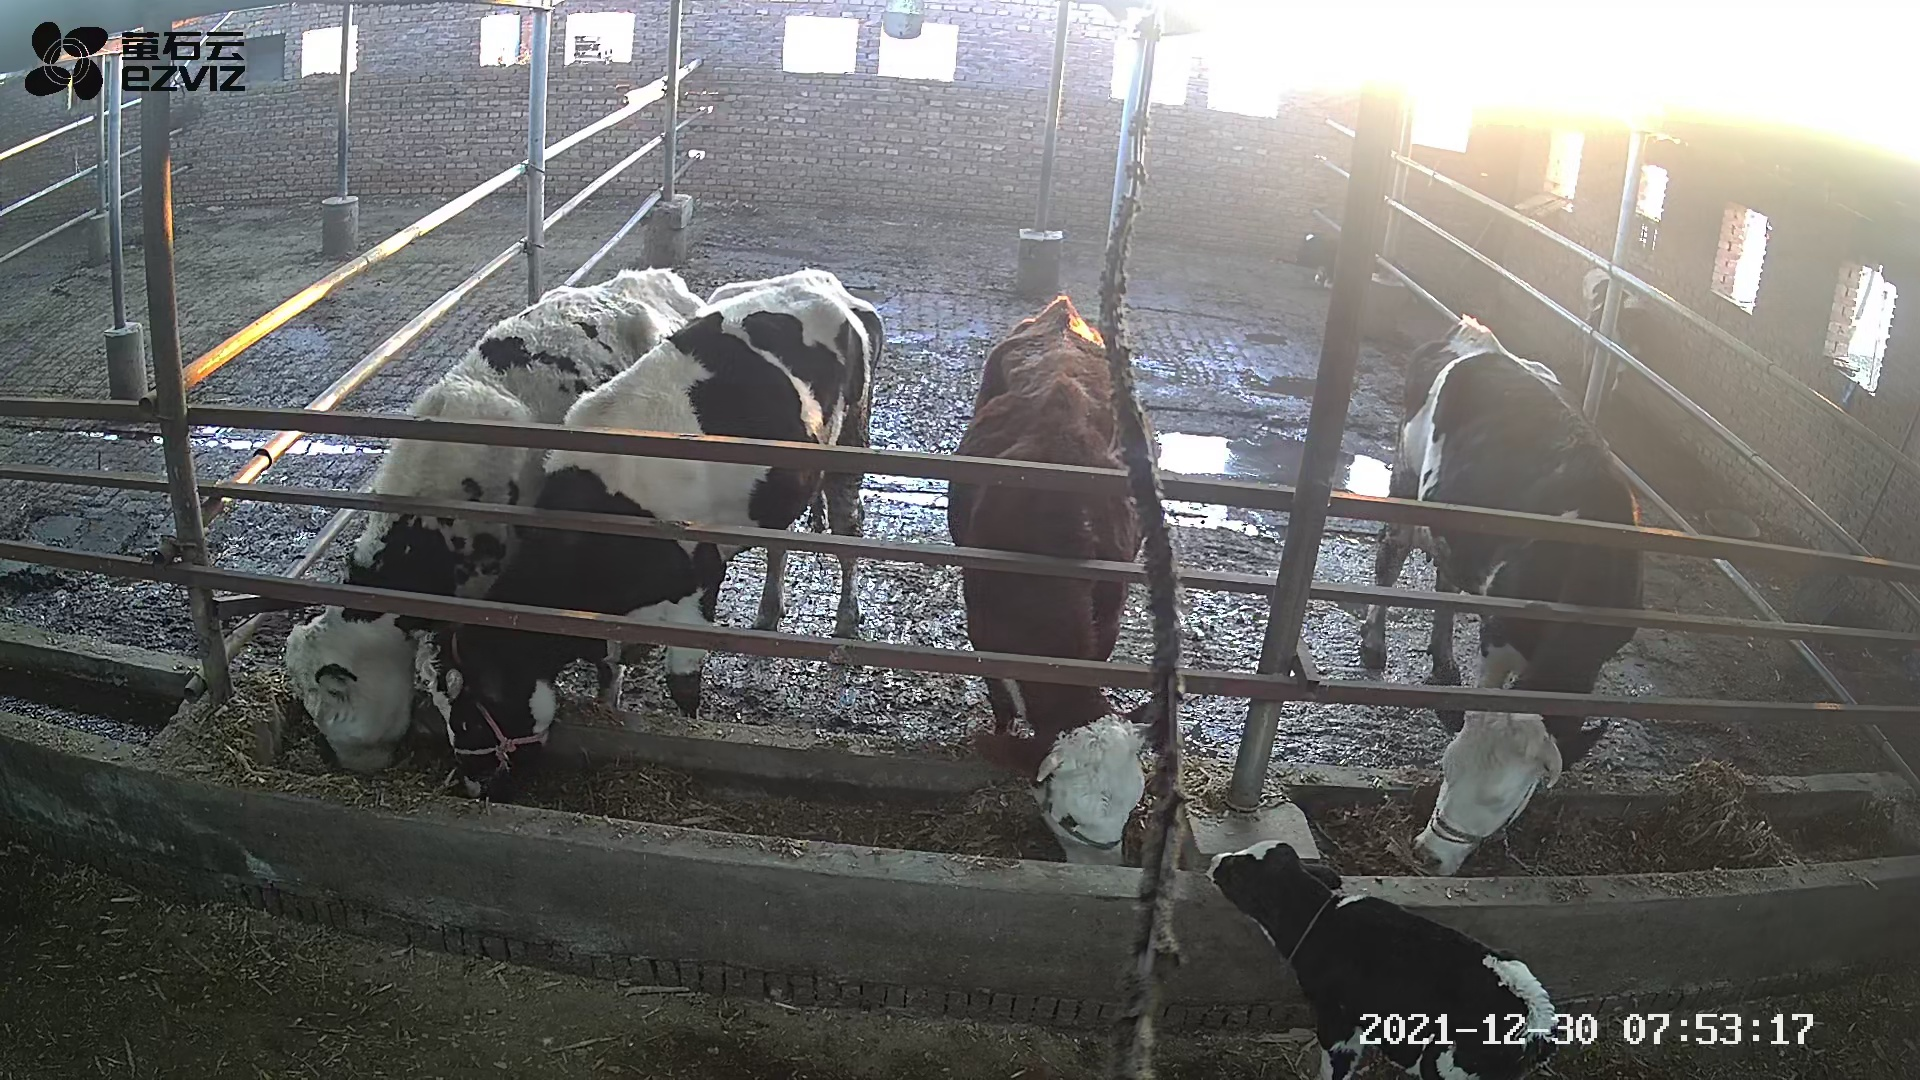cow: (394, 272, 882, 796), (280, 265, 703, 781), (1357, 313, 1644, 877), (947, 293, 1154, 870)
